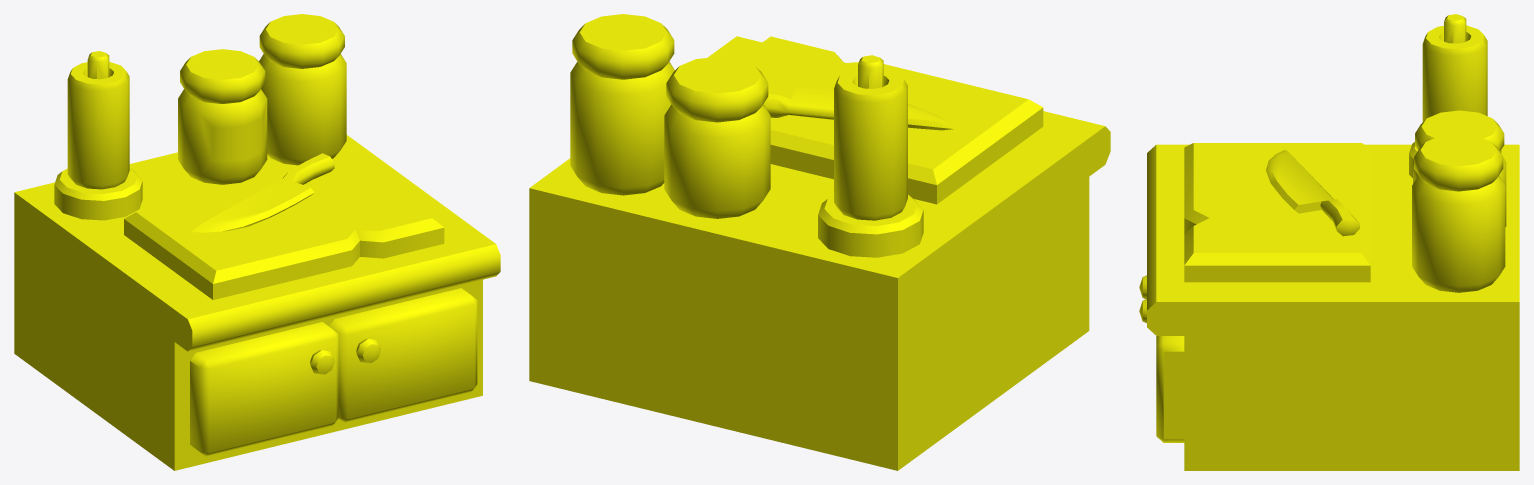
The model's file is kaykit-kitchencounter-straight-decorated.glb.
The picture shows the model from 3 angles, left to right: view 1: azimuth 30°, elevation 25°; view 2: azimuth 150°, elevation 25°; view 3: azimuth 270°, elevation 25°; orthographic projection. The views are drawn at different scales.
Visible parts, largest first — view 1: kitchencounter_straight_decorated; view 2: kitchencounter_straight_decorated; view 3: kitchencounter_straight_decorated.
Boxes of the visible parts, left/top/right/bottom form: kitchencounter_straight_decorated: left=14, top=14, right=500, bottom=470; kitchencounter_straight_decorated: left=529, top=14, right=1110, bottom=470; kitchencounter_straight_decorated: left=1139, top=14, right=1519, bottom=470.
Bounding box in the file's own units: 2 × 1.91 × 2.04.
